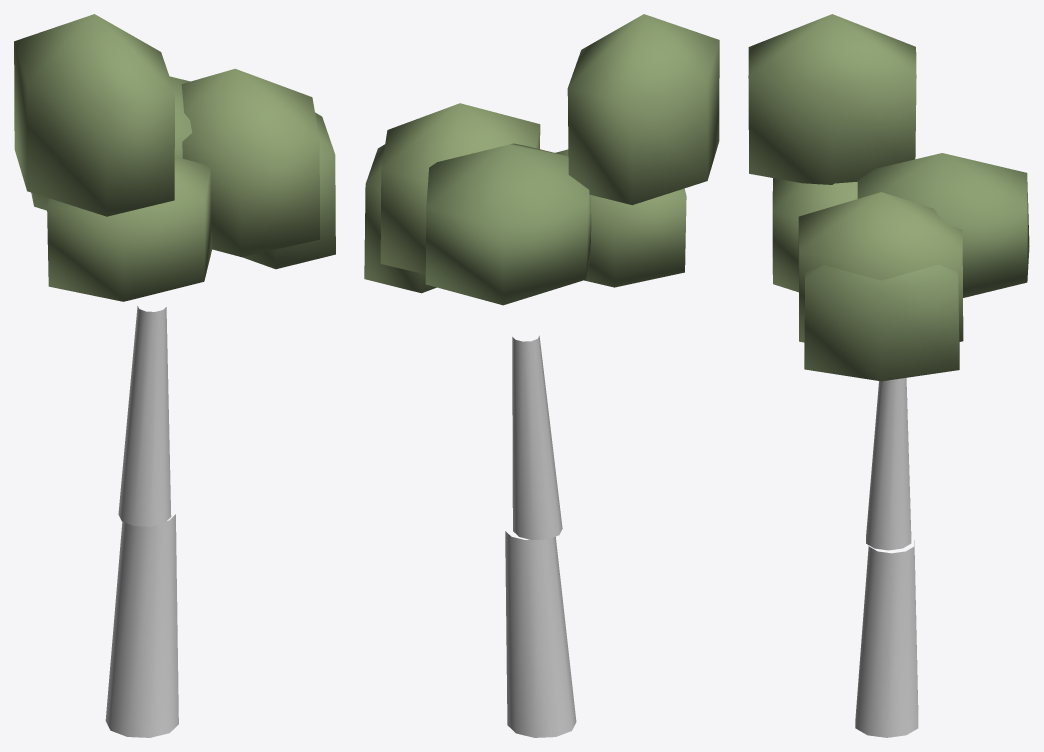
The model's file is oak_v1_far.gltf.
3 views of the same model, side by side, from view 1: azimuth 30°, elevation 25°; view 2: azimuth 150°, elevation 25°; view 3: azimuth 270°, elevation 25° (orthographic). The views are drawn at different scales.
Parts seen in each view (by area): view 1: foliage, bark; view 2: foliage, bark; view 3: foliage, bark.
Part boxes in pixels (x1,y1,x2,y2): foliage: [14, 14, 335, 301]; bark: [105, 306, 178, 737]; foliage: [364, 14, 719, 305]; bark: [505, 335, 576, 737]; foliage: [748, 14, 1029, 381]; bark: [855, 378, 918, 737].
Size of the model in its own units: 2.63 by 5.84 by 2.2.
